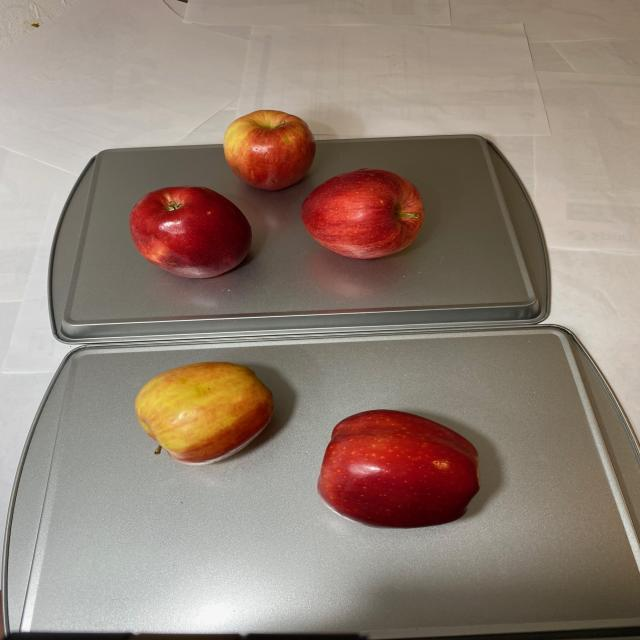apple: (128, 359, 485, 528), (125, 108, 432, 283)
